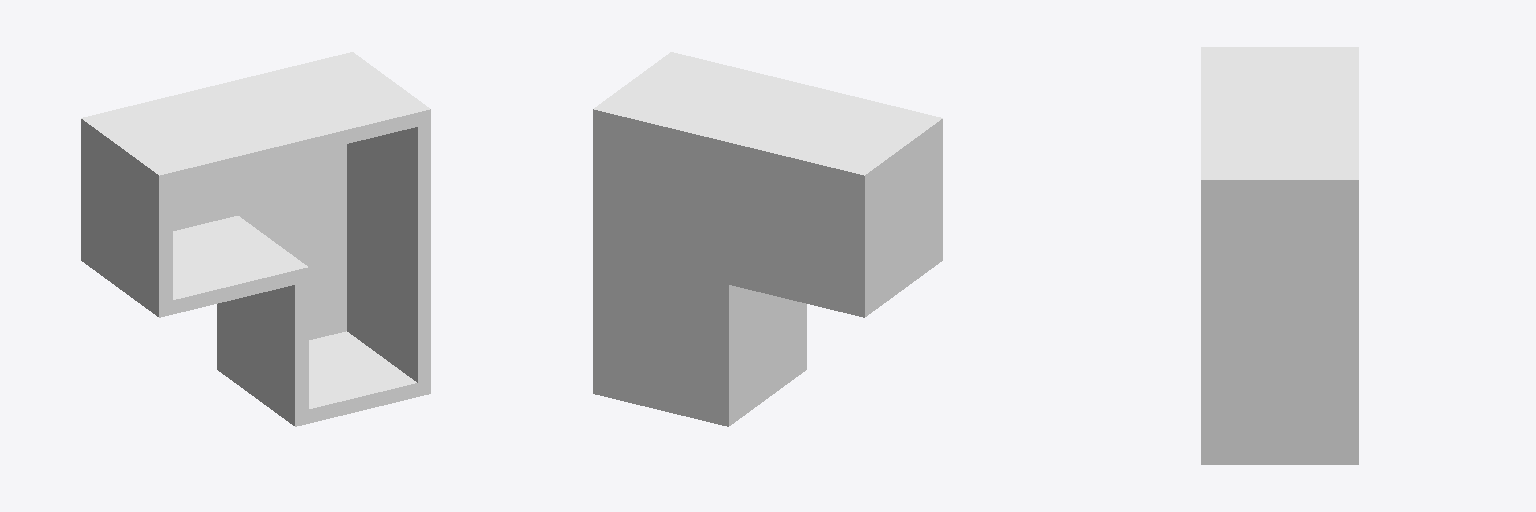
The model's file is LShapedRoom3.obj.
The picture shows the model from 3 angles: view 1: azimuth 30°, elevation 25°; view 2: azimuth 150°, elevation 25°; view 3: azimuth 270°, elevation 25°; orthographic projection.
Parts seen in each view (by area): view 1: LShapedRoom3; view 2: LShapedRoom3; view 3: LShapedRoom3.
Boxes of the visible parts, box(x1,y1,x2,y2) form: LShapedRoom3: box(81, 52, 430, 426); LShapedRoom3: box(593, 52, 942, 426); LShapedRoom3: box(1201, 47, 1358, 464).
Bounding box in the file's own units: 40 × 40 × 20.